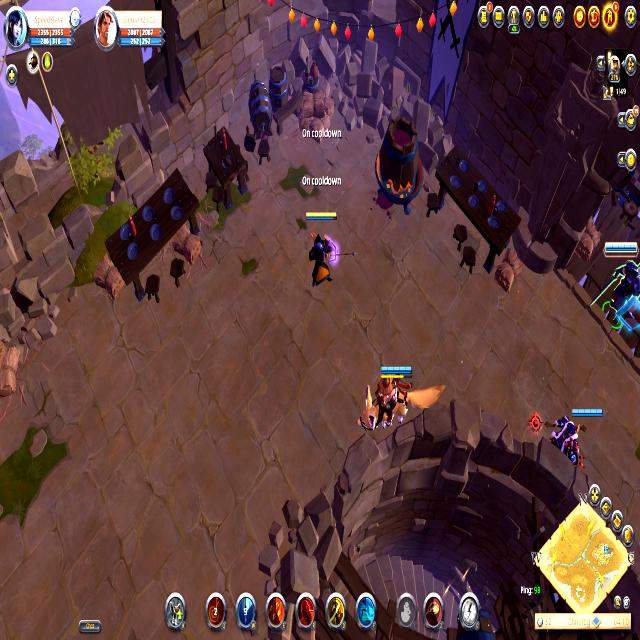red: (595, 234, 639, 336), (363, 359, 413, 436), (550, 400, 605, 469), (301, 207, 340, 291)
